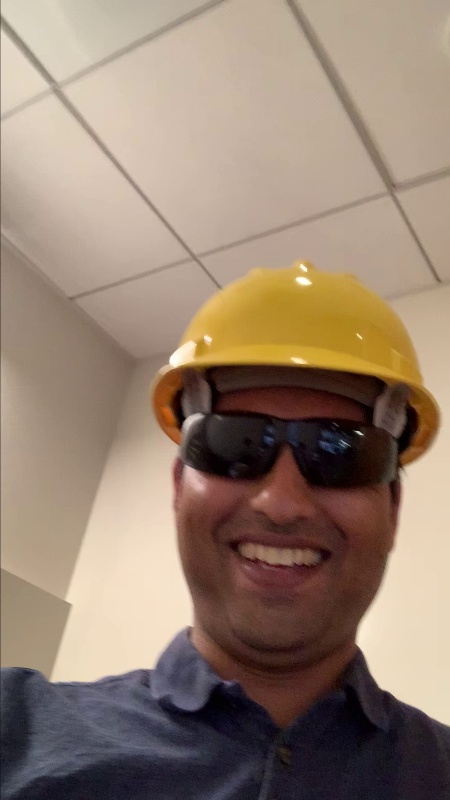glasses: (170, 407, 409, 496)
helmet: (124, 252, 445, 426)
